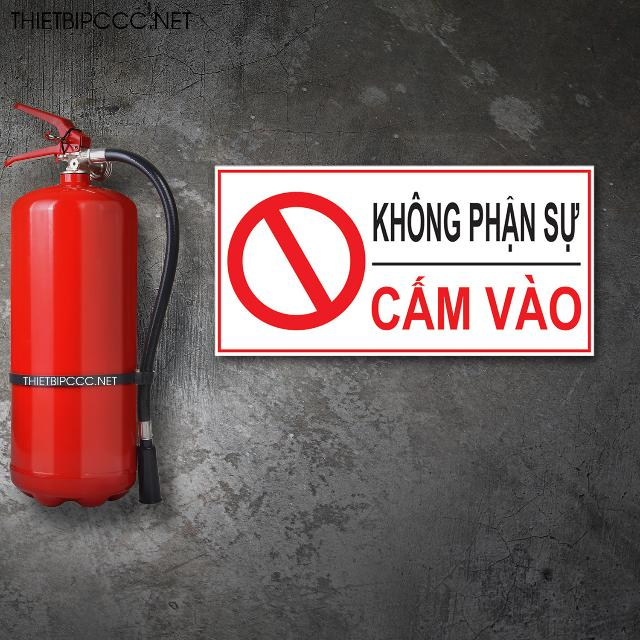khong phan su mien vao: (214, 166, 594, 355)
